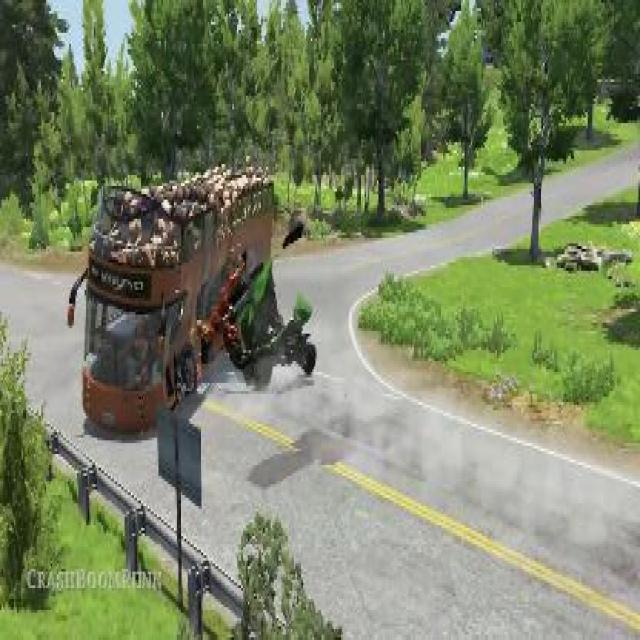accident: (63, 159, 317, 443)
